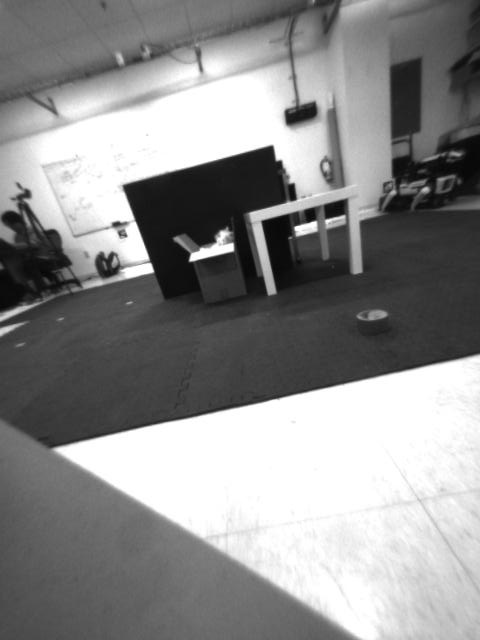dogtoy: (346, 300, 405, 342)
